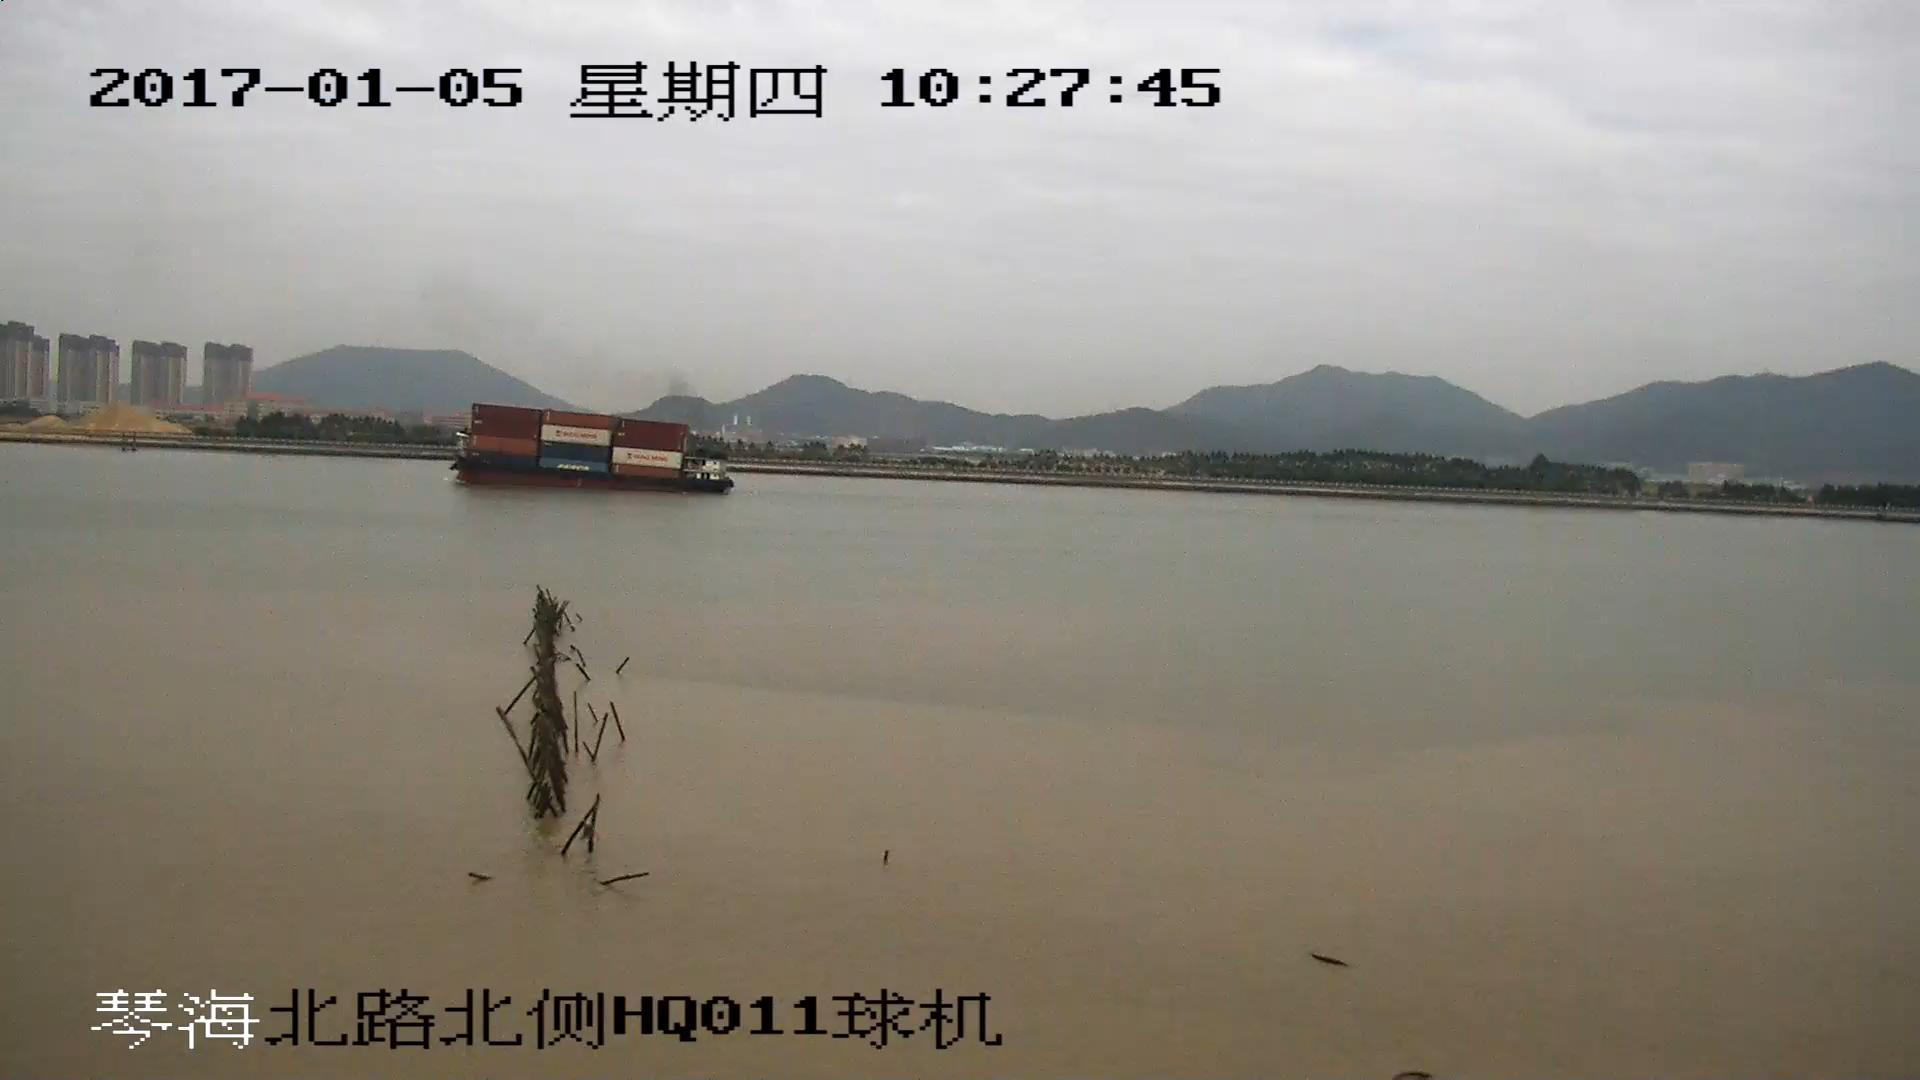Ship: (447, 407, 733, 495)
